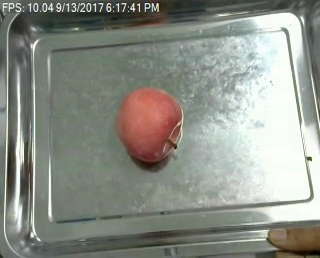Apple: (116, 86, 184, 164)
